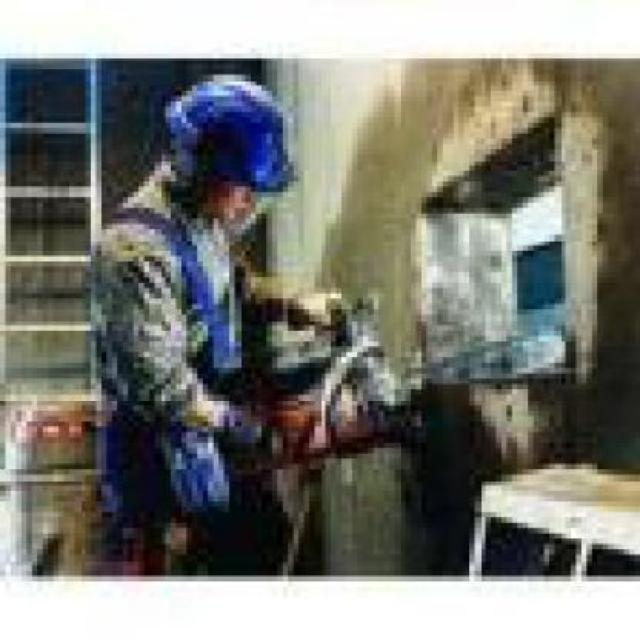Chainsaw: (243, 294, 571, 466)
